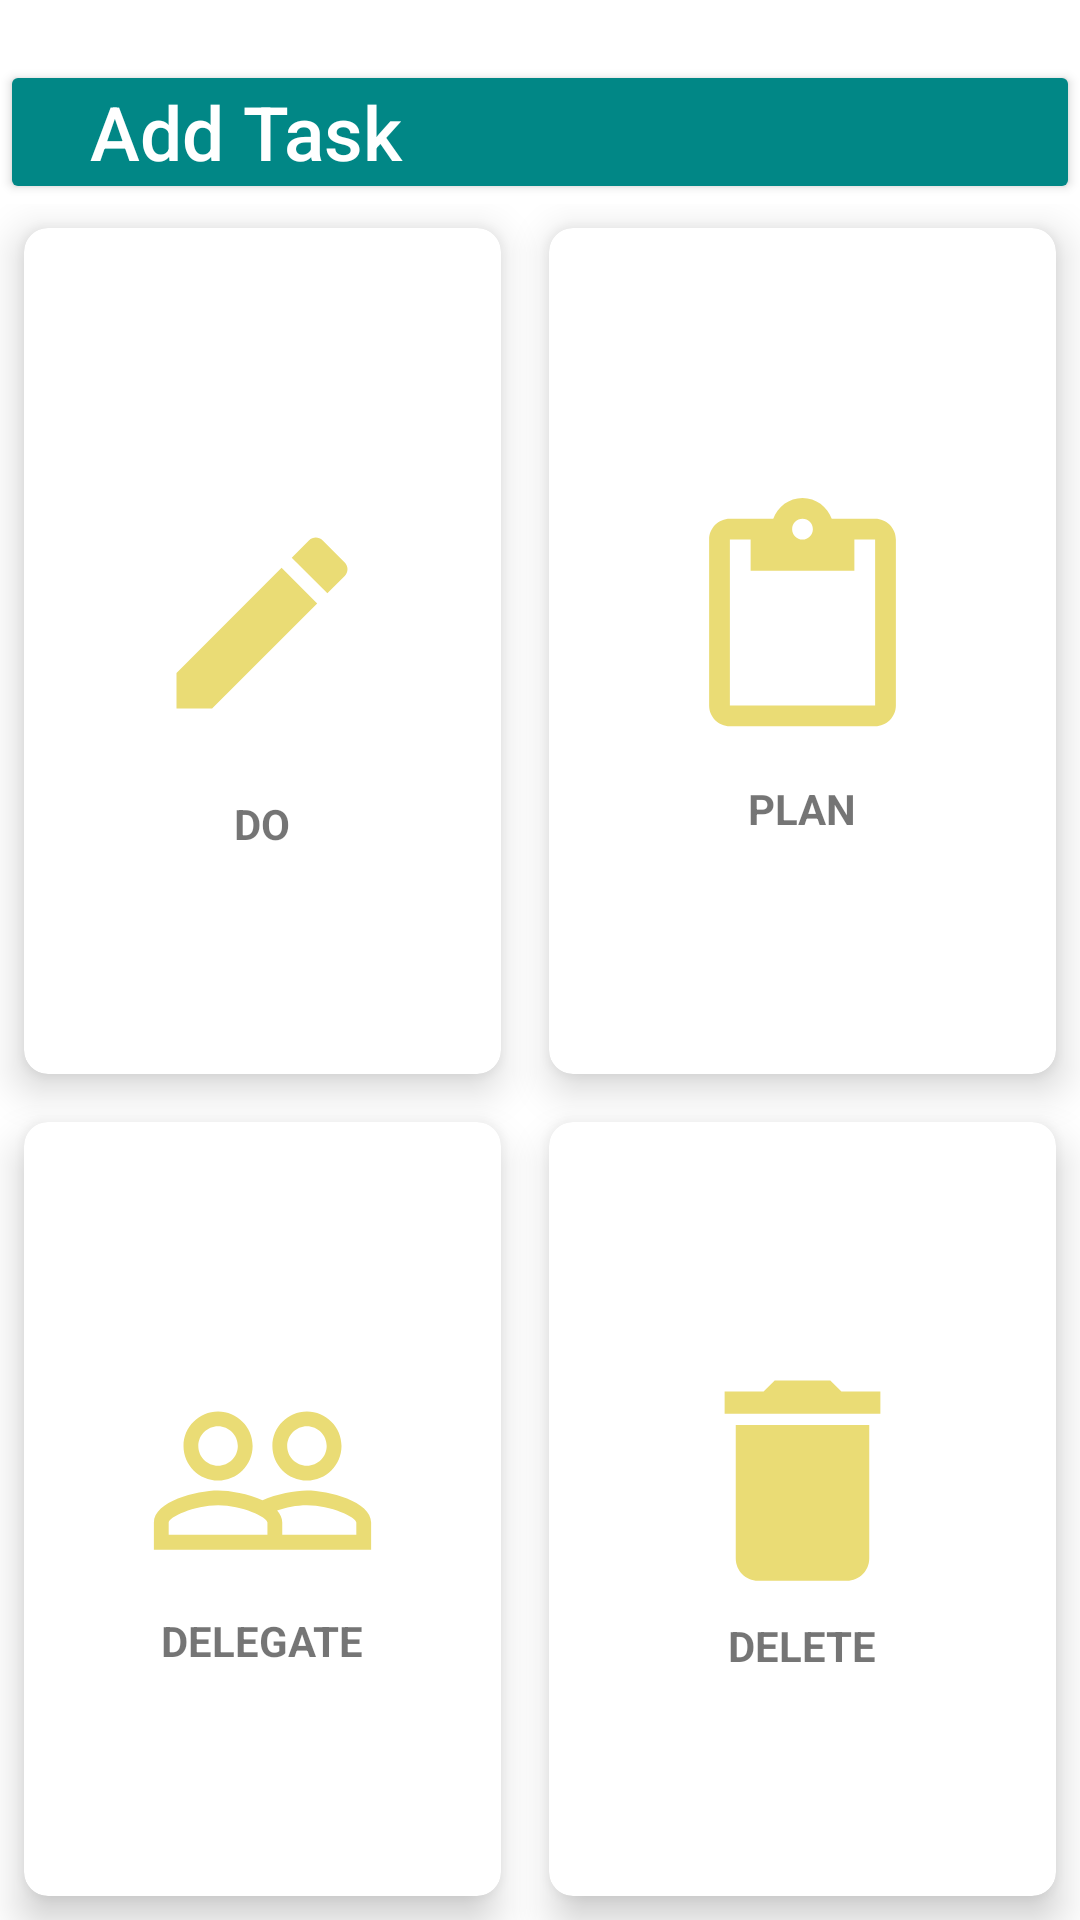

Locate icon controls on the screen. Image size 1080w x 1920h, boxes as (x1=x1, y1=y1, x2=x2, y2=y2).
content paste: (x1=709, y1=498, x2=896, y2=727)
create: (x1=176, y1=537, x2=348, y2=709)
people: (x1=154, y1=1411, x2=371, y2=1550)
